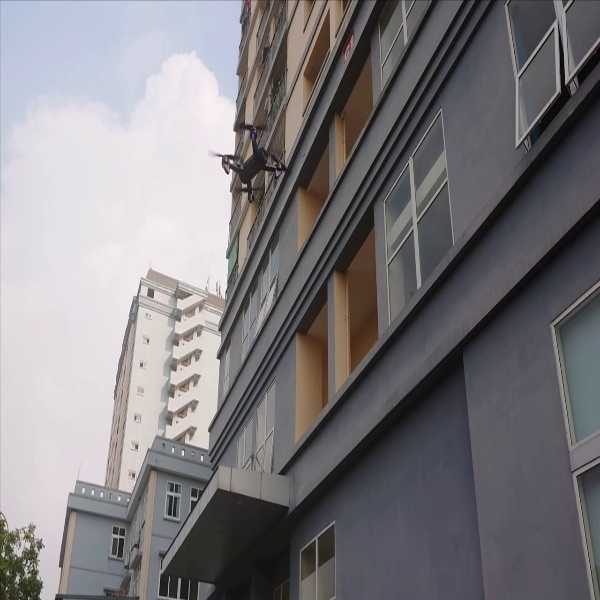drone: (211, 116, 296, 209)
